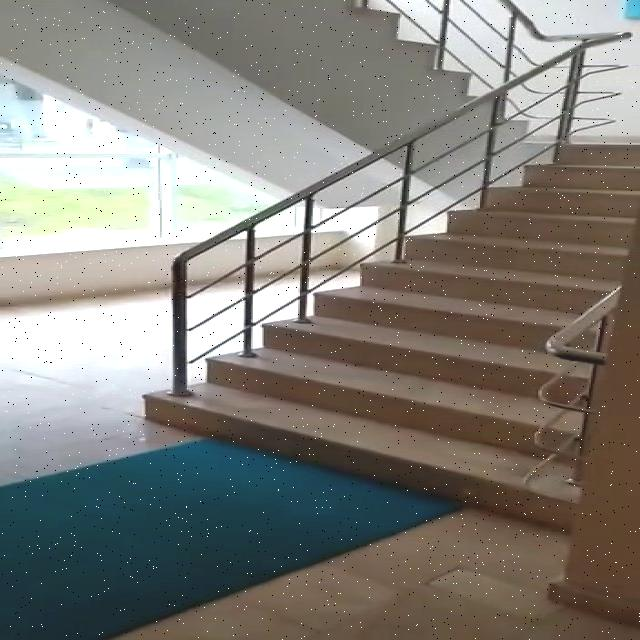stairs: (140, 140, 638, 531)
